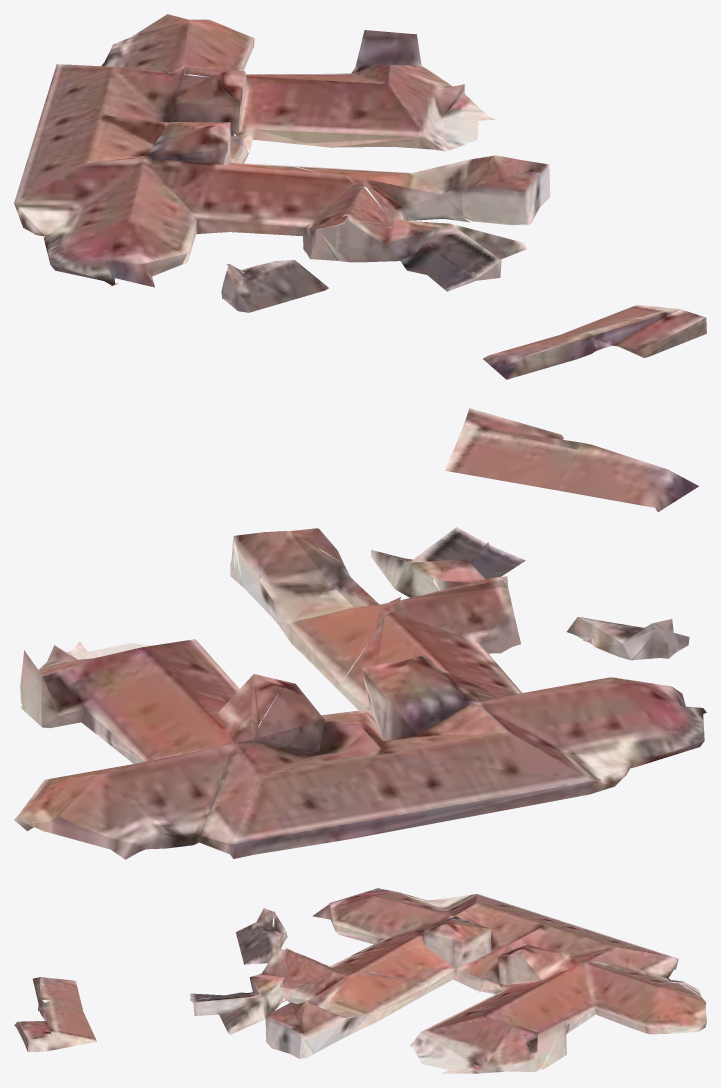
3 views of the same model, one above another, from view 1: azimuth 30°, elevation 25°; view 2: azimuth 150°, elevation 25°; view 3: azimuth 270°, elevation 25° (orthographic). The views are drawn at different scales.
Visible parts, largest first — view 1: Mesh_0; view 2: Mesh_0; view 3: Mesh_0.
Part boxes in pixels (bbox=[...]): Mesh_0: bbox=[14, 14, 706, 379]; Mesh_0: bbox=[14, 408, 706, 859]; Mesh_0: bbox=[14, 888, 706, 1073].
Bounding box in the file's own units: 40.2 × 5.52 × 64.79.
1 material, 1 textured.
